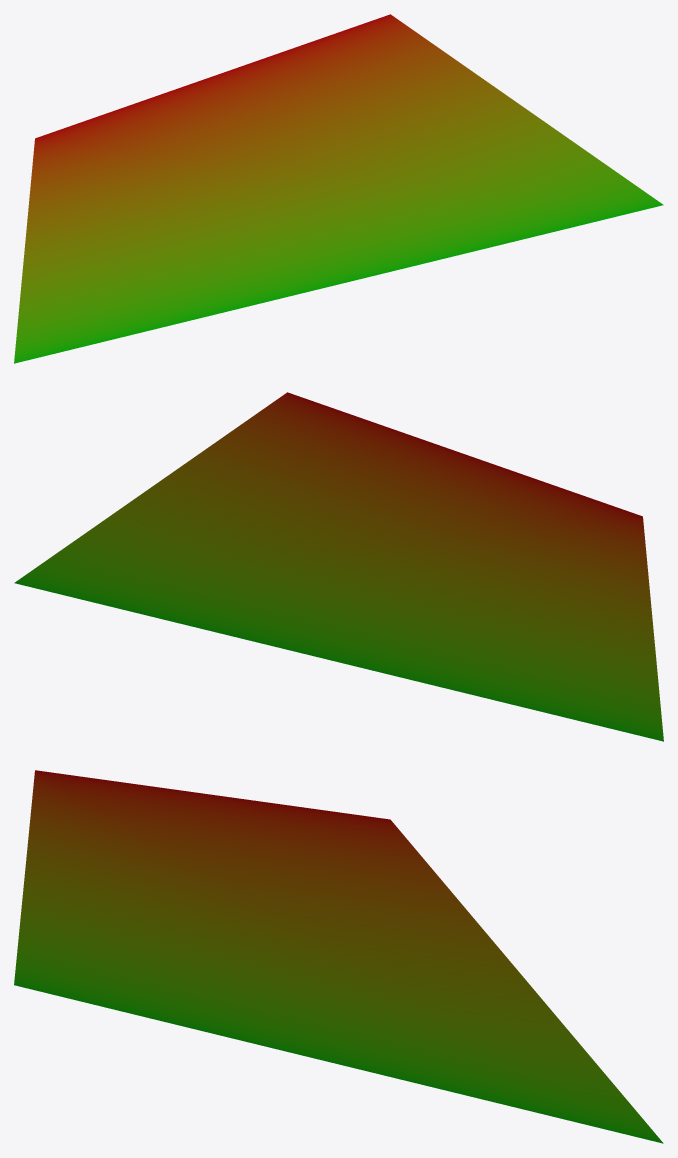
File: Sea Wheatgrass_LOD3_Var20_ui2oagjia.fbx
The picture shows the model from 3 angles, top to bottom: view 1: azimuth 30°, elevation 25°; view 2: azimuth 150°, elevation 25°; view 3: azimuth 330°, elevation 25°; orthographic projection.
Parts seen in each view (by area): view 1: _yqkq_Var20_LOD3; view 2: _yqkq_Var20_LOD3; view 3: _yqkq_Var20_LOD3.
Part boxes in pixels (x1=…): _yqkq_Var20_LOD3: x1=14, y1=14, x2=663, y2=363; _yqkq_Var20_LOD3: x1=14, y1=392, x2=663, y2=741; _yqkq_Var20_LOD3: x1=14, y1=770, x2=663, y2=1143.
Bounding box in the file's own units: 33.13 × 12.55 × 5.48e-07.
